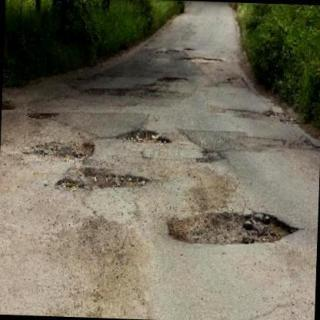pothole: (166, 212, 300, 246), (55, 168, 152, 193), (22, 143, 95, 159), (85, 88, 182, 98), (115, 130, 172, 145), (28, 111, 58, 121), (182, 58, 224, 65), (157, 77, 189, 83)
